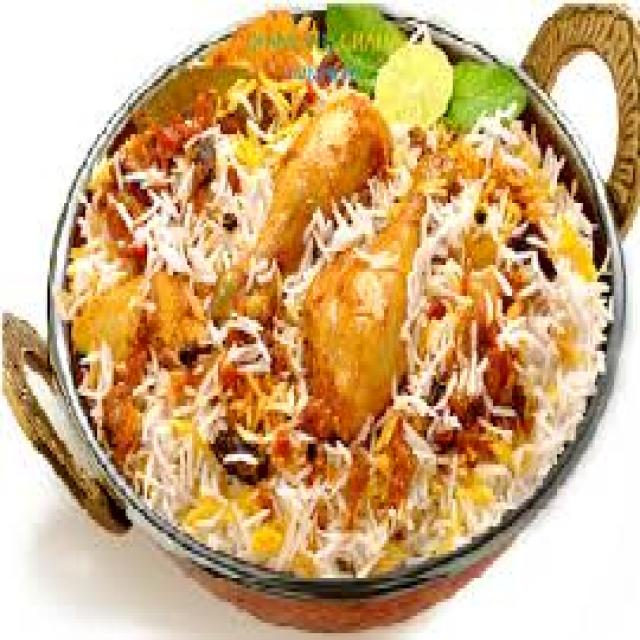Wet Waste: (63, 15, 608, 580)
